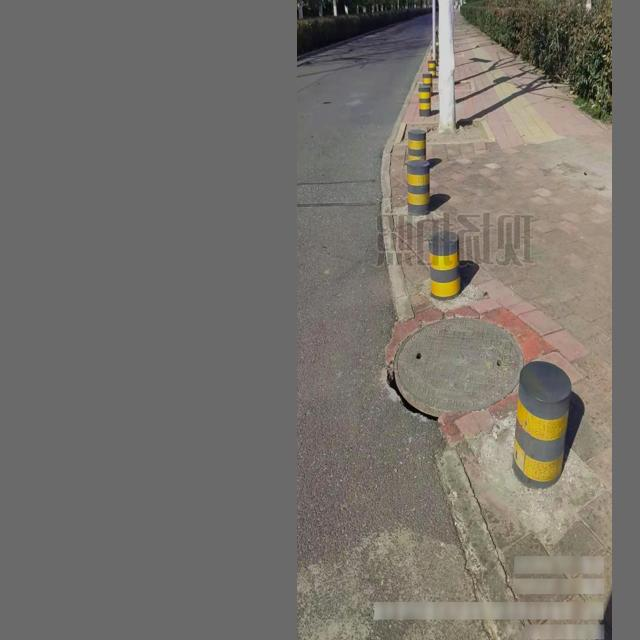circle: (384, 309, 527, 429)
